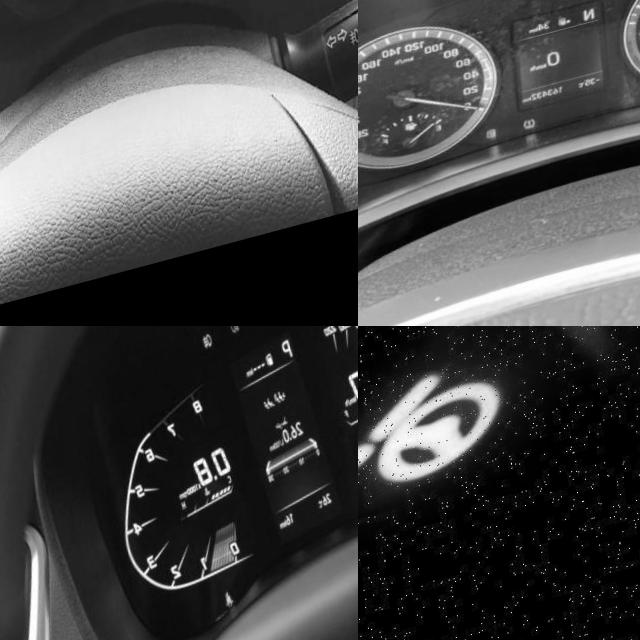Electronic Power Steering: (358, 326, 539, 588)
Seat Belt: (213, 606, 224, 623)
